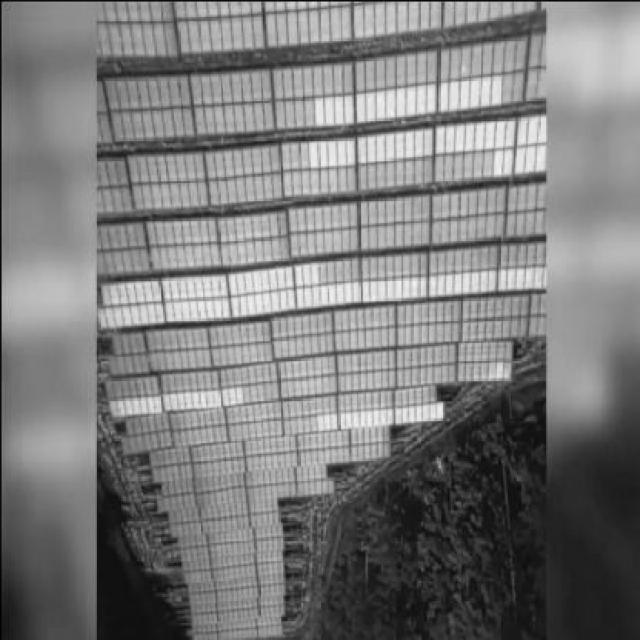diode: (492, 73, 502, 107), (466, 76, 476, 107), (382, 87, 392, 118), (478, 74, 487, 108), (522, 148, 533, 174), (502, 119, 512, 147), (436, 82, 446, 110), (424, 82, 433, 113), (404, 83, 413, 114), (497, 149, 506, 177), (513, 146, 522, 174), (488, 149, 497, 177), (492, 119, 501, 147), (461, 120, 470, 148), (394, 87, 403, 115), (372, 89, 381, 117), (331, 93, 340, 121), (320, 95, 329, 123), (306, 139, 316, 164), (480, 121, 489, 148), (353, 134, 362, 161), (342, 94, 351, 121), (416, 129, 426, 153), (392, 129, 402, 153), (382, 132, 392, 156), (528, 269, 538, 293), (407, 129, 416, 154), (323, 140, 332, 165), (532, 145, 540, 173), (415, 82, 423, 110), (372, 278, 382, 300), (471, 122, 480, 146), (441, 125, 450, 149), (315, 139, 323, 166), (353, 95, 362, 119), (143, 297, 152, 321), (532, 116, 540, 142), (364, 91, 371, 120), (522, 120, 530, 145), (450, 80, 458, 105), (362, 136, 371, 158), (474, 273, 483, 295), (274, 286, 283, 308), (257, 288, 266, 310), (218, 293, 227, 315), (459, 79, 466, 107), (373, 132, 381, 156), (342, 138, 350, 162), (432, 124, 439, 151), (398, 132, 407, 153), (351, 281, 360, 302), (122, 394, 133, 411), (515, 118, 522, 144), (486, 358, 496, 376), (148, 278, 158, 296), (142, 280, 152, 298), (503, 272, 511, 294), (382, 278, 390, 300), (293, 262, 301, 284), (233, 272, 241, 294), (216, 272, 224, 294), (160, 276, 168, 298), (116, 276, 124, 298), (398, 278, 407, 297), (108, 302, 117, 321), (451, 124, 458, 148), (282, 265, 290, 286), (227, 292, 235, 313), (160, 301, 169, 319), (123, 302, 132, 320), (124, 278, 133, 296), (334, 140, 341, 162), (268, 289, 275, 311), (263, 267, 272, 284), (234, 294, 243, 311), (100, 304, 109, 321), (316, 99, 322, 123), (357, 281, 365, 299), (204, 276, 213, 292), (176, 297, 184, 315), (116, 302, 124, 320), (494, 270, 500, 293), (406, 279, 414, 296), (115, 393, 123, 410), (458, 276, 465, 295), (326, 282, 332, 304), (302, 263, 308, 285), (194, 296, 200, 318), (186, 295, 192, 317), (308, 259, 314, 281), (249, 273, 257, 289), (250, 292, 258, 308), (140, 393, 148, 409), (538, 268, 544, 289), (522, 271, 528, 292), (486, 271, 492, 292), (417, 277, 423, 298), (389, 281, 396, 299), (342, 281, 349, 299), (209, 297, 216, 315), (191, 274, 197, 295), (433, 401, 441, 416), (243, 295, 251, 310), (513, 272, 519, 291), (443, 276, 449, 295), (242, 272, 248, 291), (153, 298, 159, 317), (133, 299, 139, 318), (181, 388, 187, 407), (166, 388, 172, 407), (158, 389, 164, 408), (327, 410, 335, 424), (189, 388, 196, 404), (148, 391, 155, 407), (468, 275, 474, 293), (434, 278, 440, 296), (426, 278, 432, 296), (366, 280, 372, 298), (333, 282, 339, 300), (301, 288, 307, 306), (293, 288, 299, 306), (274, 267, 280, 285), (201, 298, 207, 316), (174, 275, 180, 293), (134, 280, 140, 298), (314, 414, 320, 432), (175, 387, 180, 408), (131, 394, 138, 409), (379, 408, 386, 423), (396, 406, 402, 423), (286, 290, 292, 307), (228, 274, 234, 291), (542, 118, 546, 142), (353, 408, 359, 424), (310, 285, 316, 301), (258, 269, 264, 285), (226, 385, 232, 401), (204, 388, 210, 404), (197, 388, 203, 404), (210, 388, 216, 404), (387, 407, 393, 422), (198, 277, 204, 292), (183, 275, 189, 290), (170, 300, 176, 315), (218, 388, 224, 403), (94, 303, 98, 325), (541, 147, 544, 176), (414, 404, 420, 418), (346, 412, 352, 426), (427, 402, 433, 416), (319, 285, 324, 301), (234, 386, 240, 399), (451, 275, 455, 294), (404, 402, 408, 420), (367, 410, 373, 422), (340, 414, 346, 426), (320, 413, 326, 425), (169, 277, 173, 295), (497, 359, 501, 376), (391, 407, 395, 424), (360, 411, 365, 424), (421, 401, 425, 417), (334, 411, 338, 427), (375, 409, 379, 423), (409, 406, 413, 420), (508, 149, 510, 176)
hotspot: (501, 372, 507, 377)
